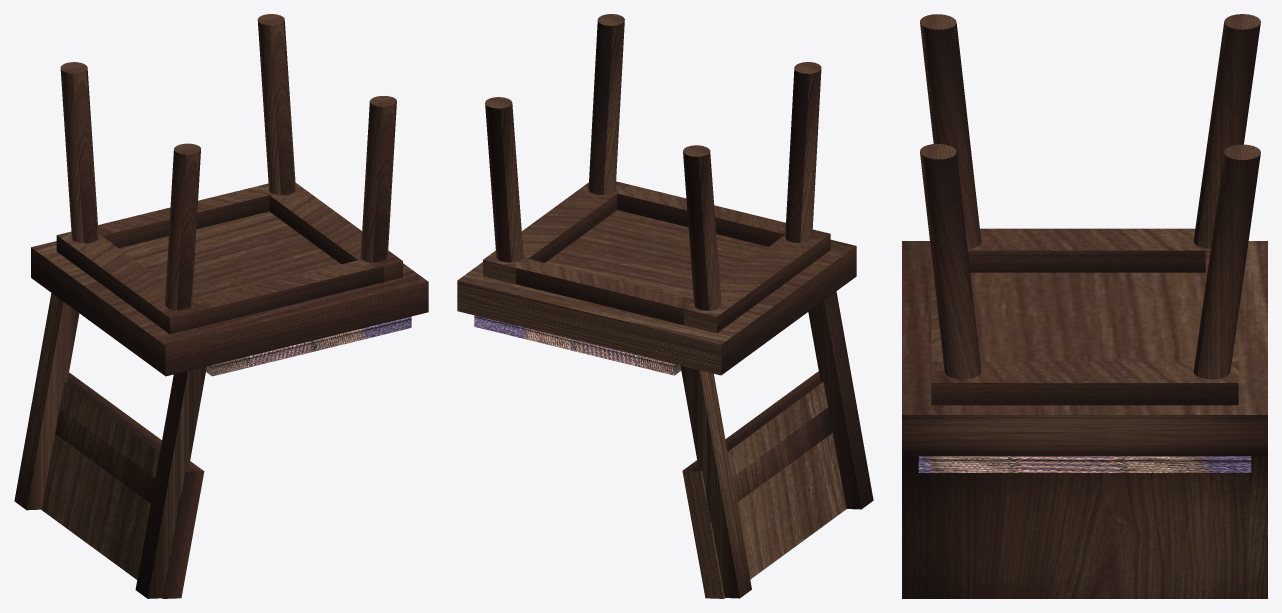
The model's file is chair 2.fbx.
3 views of the same model, side by side, from view 1: azimuth 30°, elevation 25°; view 2: azimuth 150°, elevation 25°; view 3: azimuth 270°, elevation 25° (orthographic). The views are drawn at different scales.
Parts seen in each view (by area): view 1: pCube1, pCube10, pCube8, pCube9, pCube3, pCylinder2, pCylinder1, pCylinder4, pCylinder3, pCube4, pCube5, pCube7 (+2 smaller); view 2: pCube1, pCube10, pCube9, pCube8, pCube3, pCylinder3, pCylinder4, pCube7, pCube4, pCylinder2, pCylinder1, pCube5 (+2 smaller); view 3: pCube1, pCube10, pCube4, pCube3, pCylinder1, pCylinder3, pCylinder2, pCylinder4, pCube11, pCube5.
Boxes of the visible parts, <box> form: pCube1: <box>31,211,428,376</box>; pCube10: <box>41,372,204,598</box>; pCube8: <box>135,366,206,598</box>; pCube9: <box>14,293,79,510</box>; pCube3: <box>56,231,201,334</box>; pCylinder2: <box>60,62,98,243</box>; pCylinder1: <box>257,14,295,195</box>; pCylinder4: <box>165,143,200,310</box>; pCylinder3: <box>360,96,396,262</box>; pCube4: <box>258,183,402,281</box>; pCube5: <box>183,260,383,329</box>; pCube7: <box>98,184,272,248</box>; pCube1: <box>457,210,856,375</box>; pCube10: <box>682,371,846,598</box>; pCube9: <box>680,366,751,598</box>; pCube8: <box>808,291,873,509</box>; pCube3: <box>684,229,830,333</box>; pCylinder3: <box>588,14,624,194</box>; pCylinder4: <box>785,62,821,242</box>; pCube7: <box>509,258,693,324</box>; pCube4: <box>483,181,628,284</box>; pCylinder2: <box>683,145,721,310</box>; pCylinder1: <box>485,97,523,262</box>; pCube5: <box>615,182,785,246</box>; pCube1: <box>902,241,1267,456</box>; pCube10: <box>902,456,1267,598</box>; pCube4: <box>931,361,1238,405</box>; pCube3: <box>967,228,1210,272</box>; pCylinder1: <box>1193,144,1260,379</box>; pCylinder3: <box>920,144,981,379</box>; pCylinder2: <box>1193,14,1260,248</box>; pCylinder4: <box>920,14,981,249</box>; pCube11: <box>918,456,1251,472</box>; pCube5: <box>931,277,944,370</box>.
Size of the model in its own units: 3.09 by 4.58 by 2.57.
